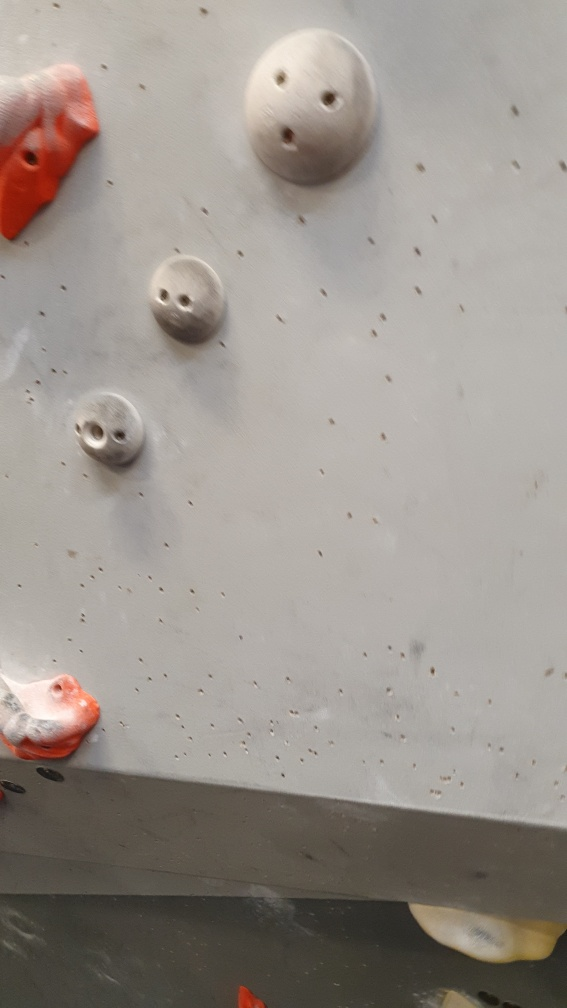Hand Start: (34, 762, 69, 789), (1, 774, 31, 797)
Jug: (1, 54, 110, 248), (1, 672, 104, 769)
Sloper: (238, 24, 377, 186), (142, 248, 230, 348), (72, 388, 148, 472)
